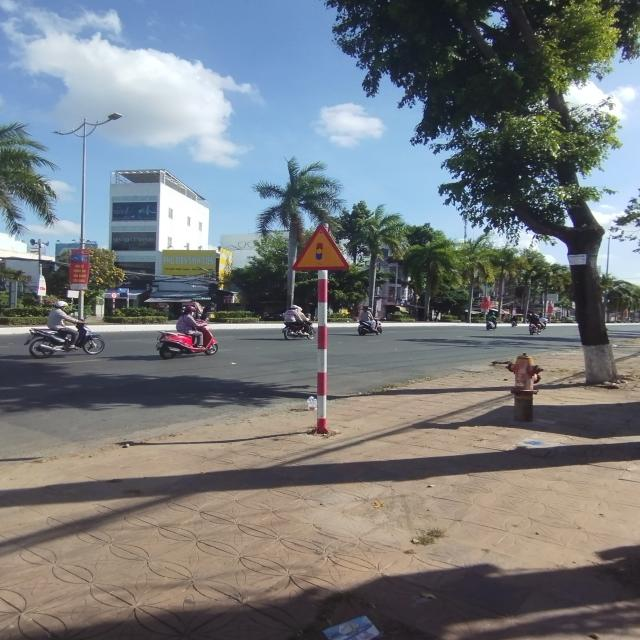Duong_Co_Go_Giam_Toc: (292, 224, 350, 272)
